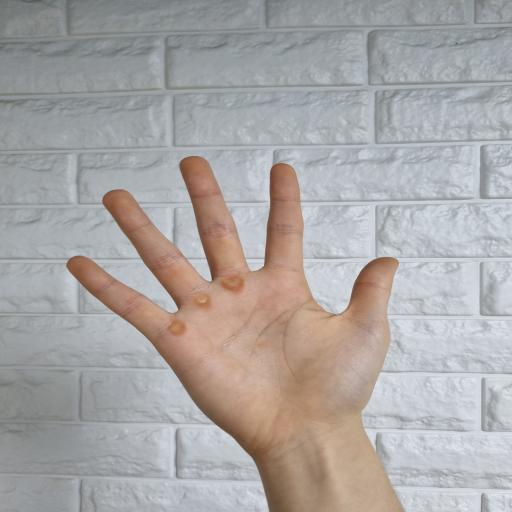Paper: (66, 156, 399, 460)
